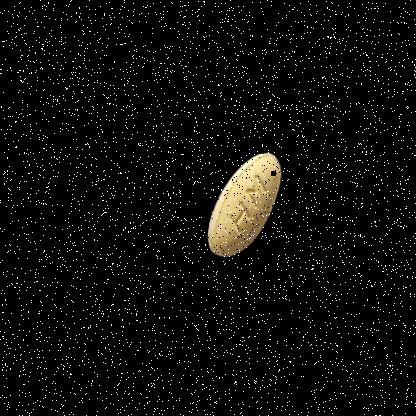tovast10: (189, 134, 307, 288)
